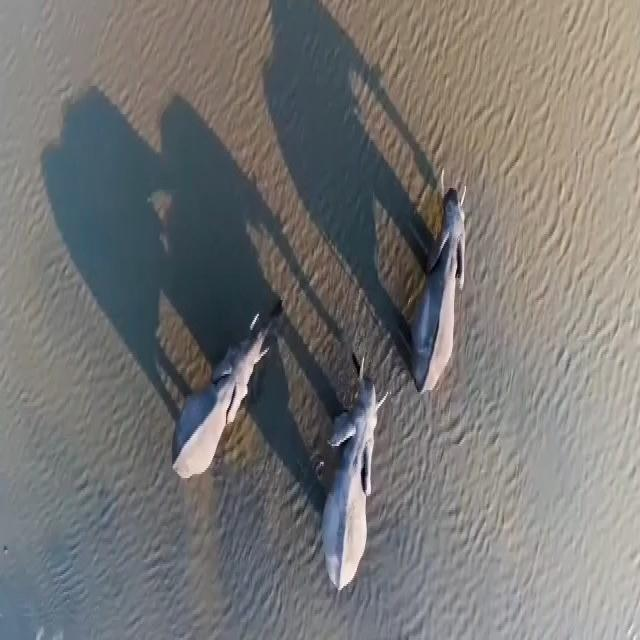Elephant: (168, 305, 281, 487), (321, 370, 389, 602), (407, 183, 471, 403)
